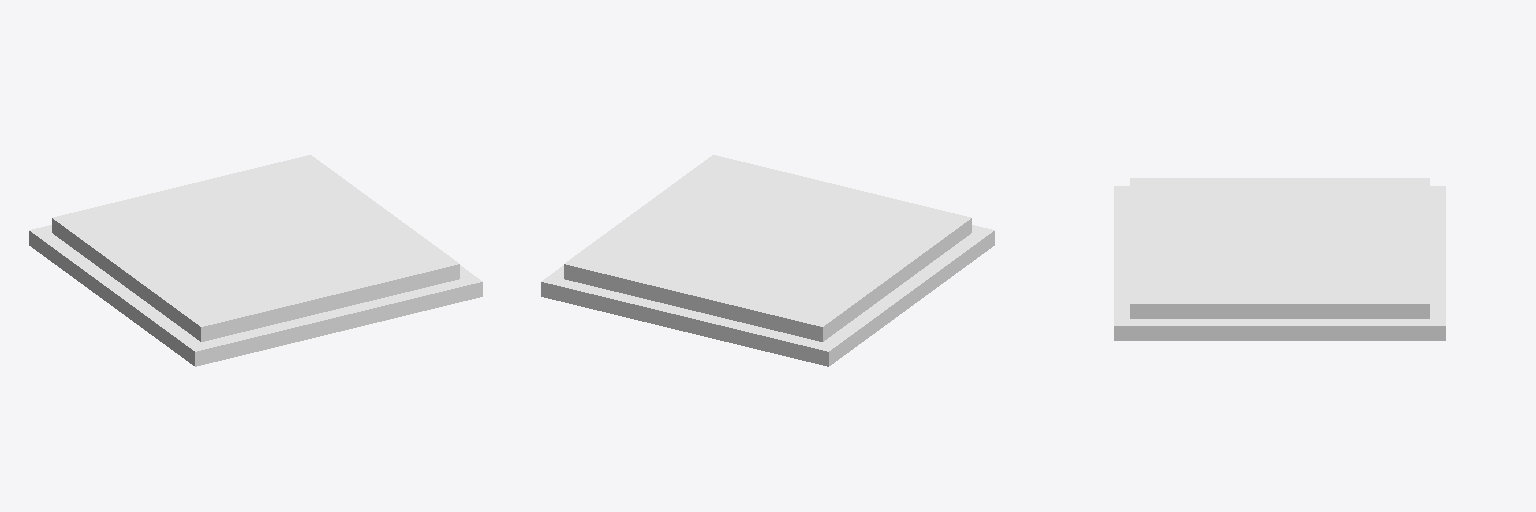
File: Stenka1-26 2.obj
3 renders of one model, left to right at view 1: azimuth 30°, elevation 25°; view 2: azimuth 150°, elevation 25°; view 3: azimuth 270°, elevation 25°, orthographic.
Parts seen in each view (by area): view 1: object 1; view 2: object 1; view 3: object 1.
Part boxes in pixels (x1,y1,x2,y2): object 1: (29,155,482,366); object 1: (541,155,994,366); object 1: (1114,178,1445,340).
Bounding box in the file's own units: 2 × 0.2 × 2.